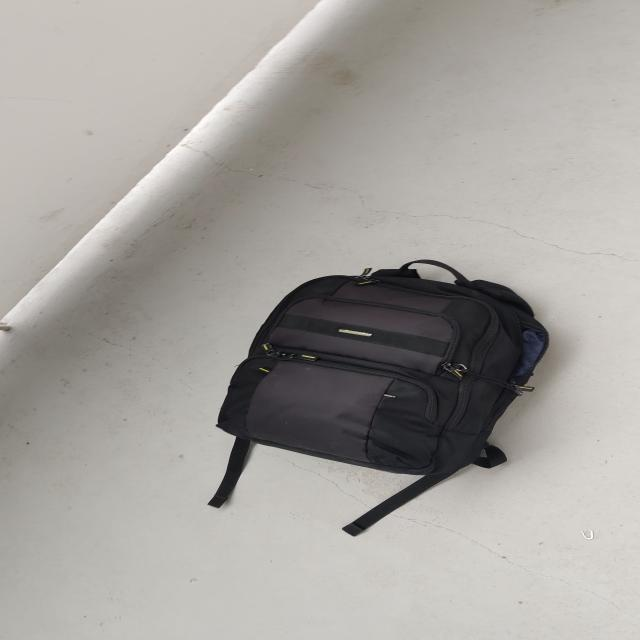backpack: (208, 252, 558, 485)
